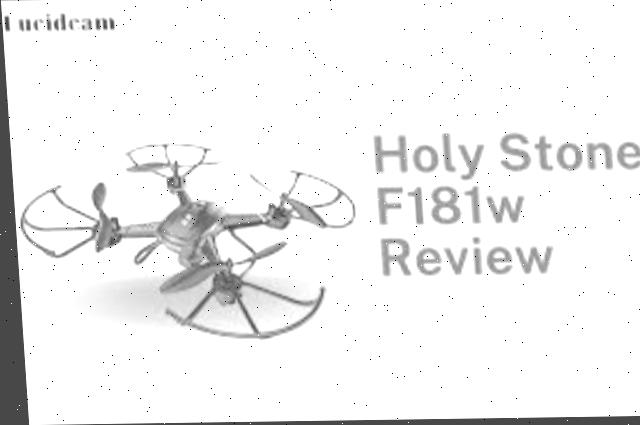drone: (12, 133, 357, 345)
